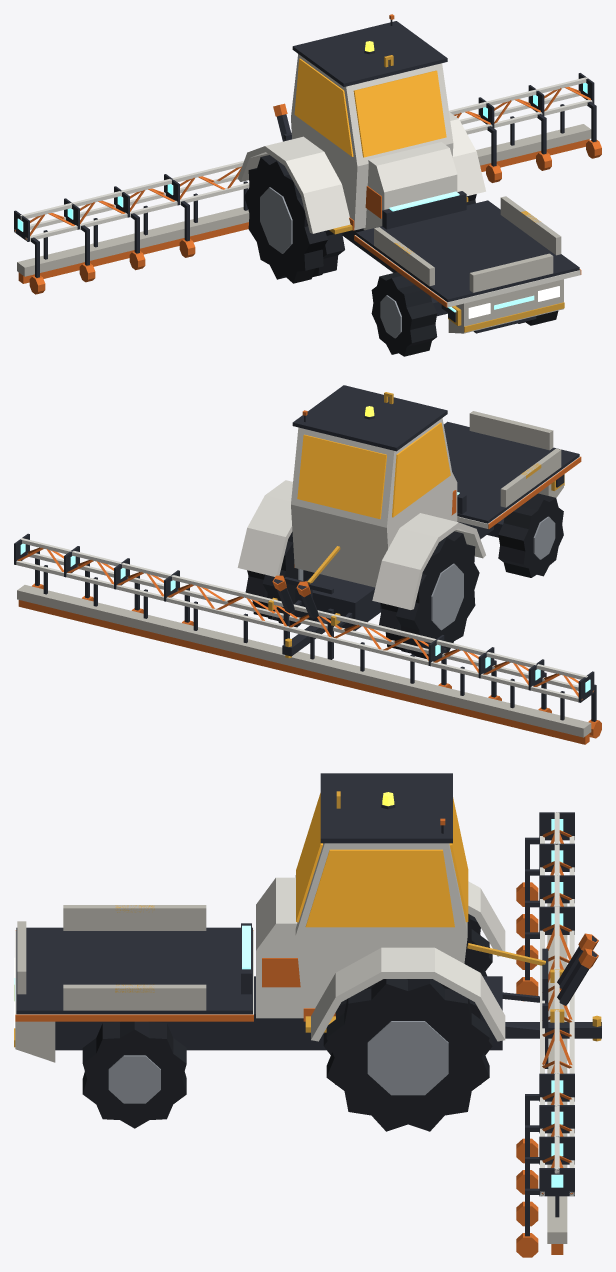
File: vozidlo-prachocuc.glb
3 views of the same model, one above another, from view 1: azimuth 30°, elevation 25°; view 2: azimuth 150°, elevation 25°; view 3: azimuth 270°, elevation 25° (orthographic). The views are drawn at different scales.
Parts seen in each view (by area): view 1: karoserie, kolo_3, kolo_1, rameno_L, rameno_L_u3, rameno_P_u3, rameno_P_u2, rameno_L_u2, rameno_L_u1, rameno_P_u1, rameno_L_opora, rameno_L_u1_opora (+5 smaller); view 2: karoserie, kolo_3, rameno_P, rameno_L, kolo_1, rameno_L_u3, rameno_L_u2, rameno_L_u1, rameno_P_u3, rameno_P_u1, rameno_P_u2, kolo_4; view 3: karoserie, kolo_4, kolo_2, rameno_P_u3, rameno_L, rameno_P, rameno_L_u1, rameno_P_u2, rameno_P_u1, rameno_L_u2, rameno_L_u3, kolo_3 (+7 smaller).
Boxes of the visible parts, box(x1,y1,x2,y2) form: karoserie: box(237, 14, 581, 333); kolo_3: box(244, 155, 344, 283); kolo_1: box(371, 272, 437, 356); rameno_L: box(164, 161, 249, 247); rameno_L_u3: box(14, 203, 77, 283); rameno_P_u3: box(534, 73, 594, 155); rameno_P_u2: box(484, 85, 544, 167); rameno_L_u2: box(64, 191, 127, 271); rameno_L_u1: box(114, 179, 177, 259); rameno_P_u1: box(449, 97, 494, 171); rameno_L_opora: box(167, 184, 195, 257); rameno_L_u1_opora: box(117, 196, 145, 270); karoserie: box(237, 385, 581, 683); kolo_3: box(379, 531, 479, 658); rameno_P: box(164, 570, 276, 667); rameno_L: box(330, 615, 444, 707); kolo_1: box(498, 493, 563, 577); rameno_L_u3: box(530, 664, 594, 744); rameno_L_u2: box(480, 652, 544, 732); rameno_L_u1: box(430, 639, 494, 720); rameno_P_u3: box(14, 533, 73, 618); rameno_P_u1: box(114, 558, 173, 642); rameno_P_u2: box(64, 546, 124, 630); kolo_4: box(245, 531, 313, 627); karoserie: box(14, 773, 601, 1073); kolo_4: box(323, 979, 492, 1131); kolo_2: box(82, 1021, 186, 1128); rameno_P_u3: box(539, 1137, 574, 1254); rameno_L: box(539, 906, 574, 1021); rameno_P: box(539, 1011, 574, 1136); rameno_L_u1: box(539, 875, 574, 969); rameno_P_u2: box(539, 1106, 574, 1200); rameno_P_u1: box(539, 1074, 574, 1167); rameno_L_u2: box(539, 843, 574, 938); rameno_L_u3: box(539, 812, 574, 906); kolo_3: box(464, 914, 492, 976).
Size of the model in its own units: 8.52 by 3.2 by 5.92.
